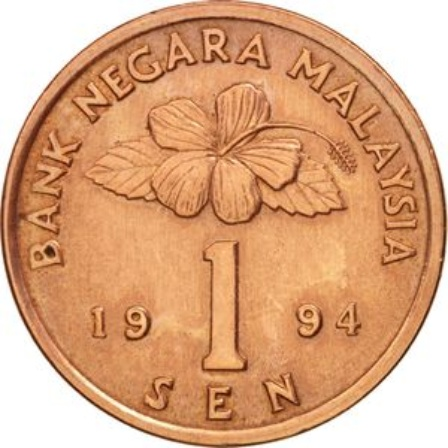1c: (0, 1, 448, 448)
